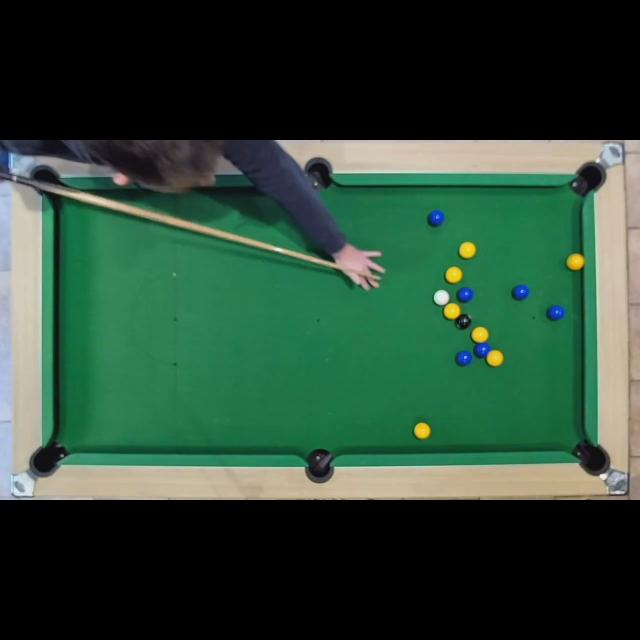Ball: (459, 242, 475, 260), (484, 351, 502, 367), (474, 343, 491, 359), (567, 253, 583, 270), (444, 304, 461, 320), (414, 423, 431, 439), (433, 290, 449, 306), (428, 210, 444, 226), (512, 285, 528, 301), (455, 350, 471, 366), (456, 315, 472, 329), (548, 306, 564, 320), (446, 268, 462, 282), (471, 328, 487, 342), (458, 288, 472, 302)
